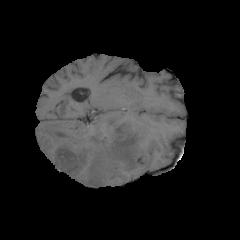glioma: (42, 113, 142, 186)
